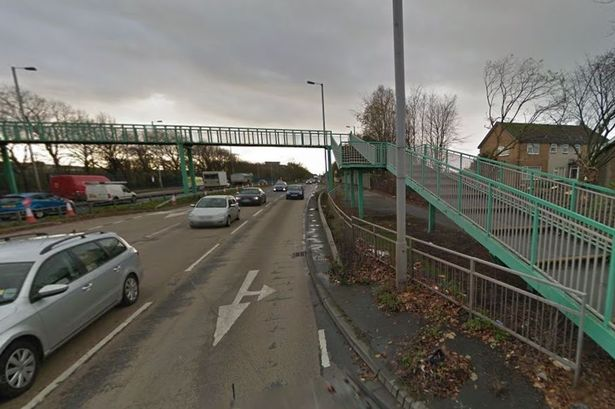bridge: (1, 120, 333, 151)
